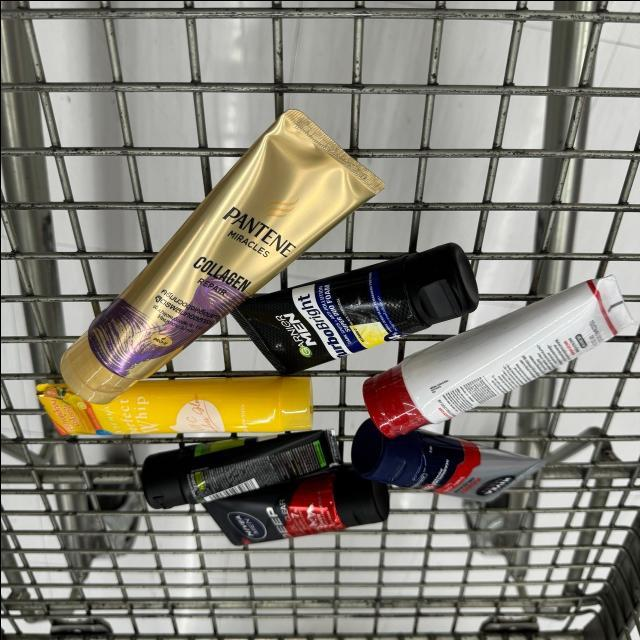Squeeze Tube: (61, 108, 393, 406), (354, 265, 639, 441), (225, 240, 481, 382), (351, 419, 580, 523), (28, 379, 315, 450), (136, 425, 340, 519), (197, 467, 390, 551)
